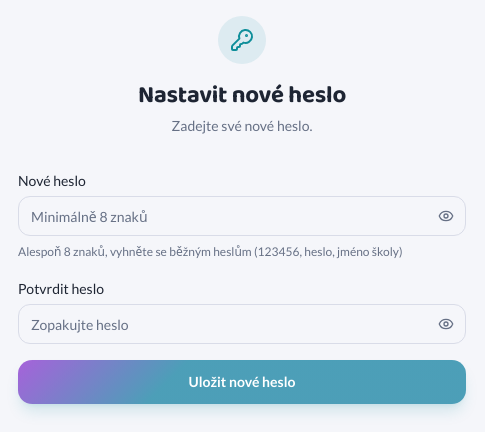
ResetHeslo › invalid_token ukáže obrazovku Neplatný odkaz
Type "Tri-Slova-Za-Sebou" into the password field labelled "Nové heslo". click: (242, 216)
box: [18,196,466,236]
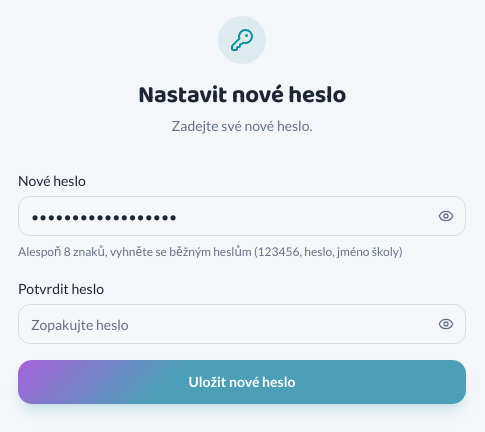
Type "Tri-Slova-Za-Sebou" into the password field labelled "Potvrdit heslo". click: (242, 324)
box: [18,304,466,344]
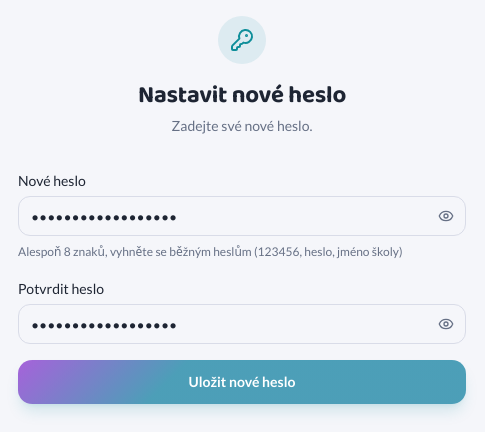
Click the button "Uložit nové heslo". click: (242, 382)
box: [18,360,466,404]
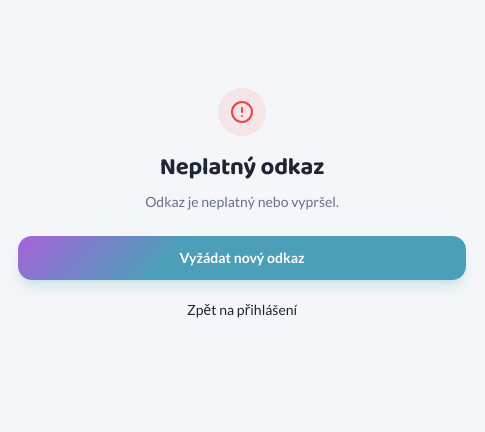
Expected: the heading "Neplatný odkaz" is shown, [160,148,324,187]
Expected: the button "Uložit nové heslo" is gone
